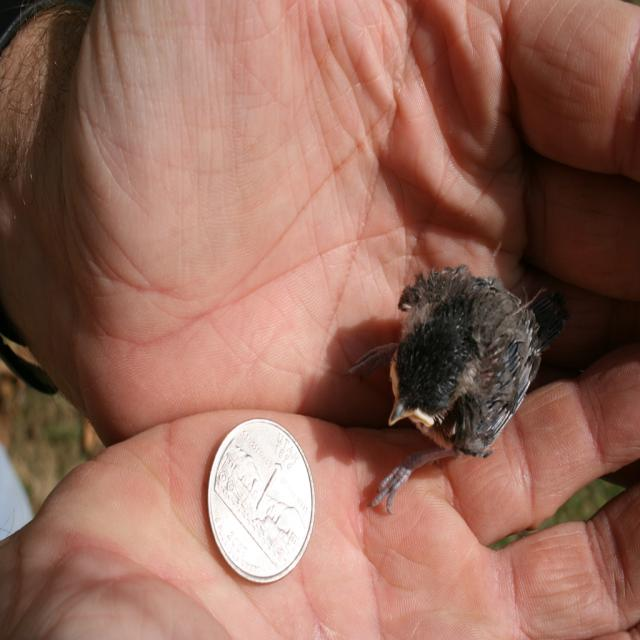Coin: (206, 420, 316, 585)
